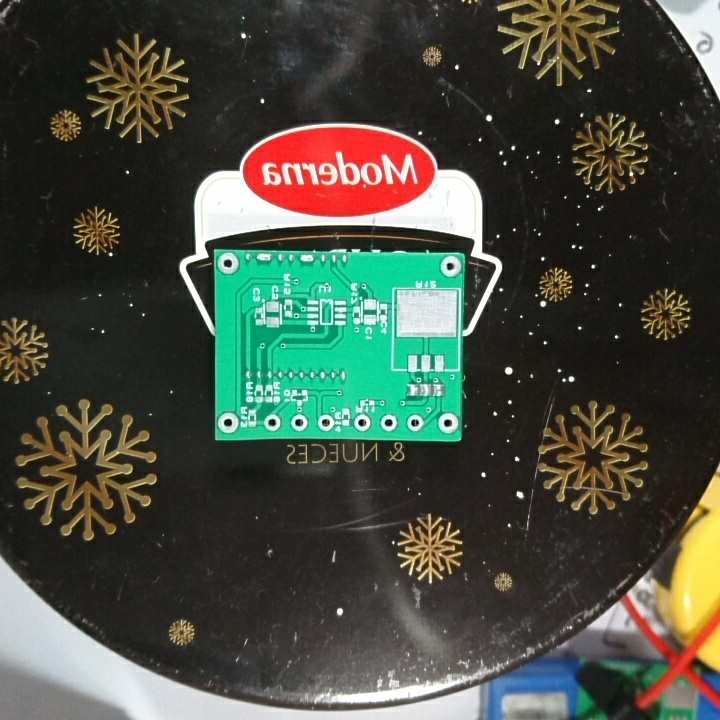F: (217, 250, 241, 279), (439, 253, 463, 281), (217, 408, 239, 438), (436, 409, 460, 435), (351, 412, 374, 435), (288, 412, 311, 435), (378, 412, 400, 435), (315, 411, 336, 432), (405, 412, 425, 434), (263, 412, 284, 432)
P: (295, 251, 319, 267), (253, 249, 274, 266)
